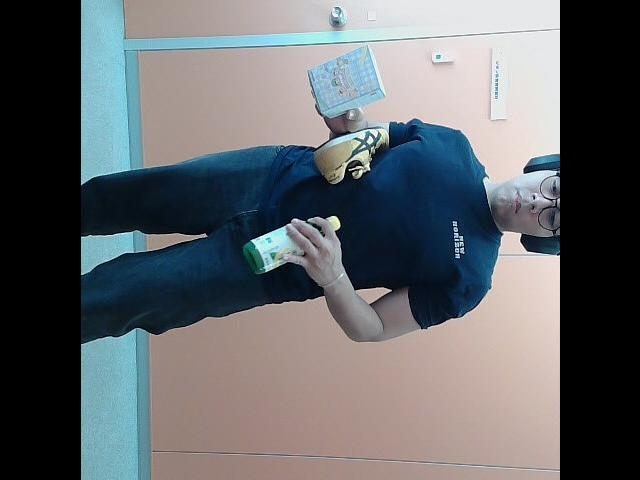Blind_box: (309, 42, 387, 122)
Lemon_sapporo: (250, 212, 342, 272)
Shoes: (314, 127, 392, 187)
